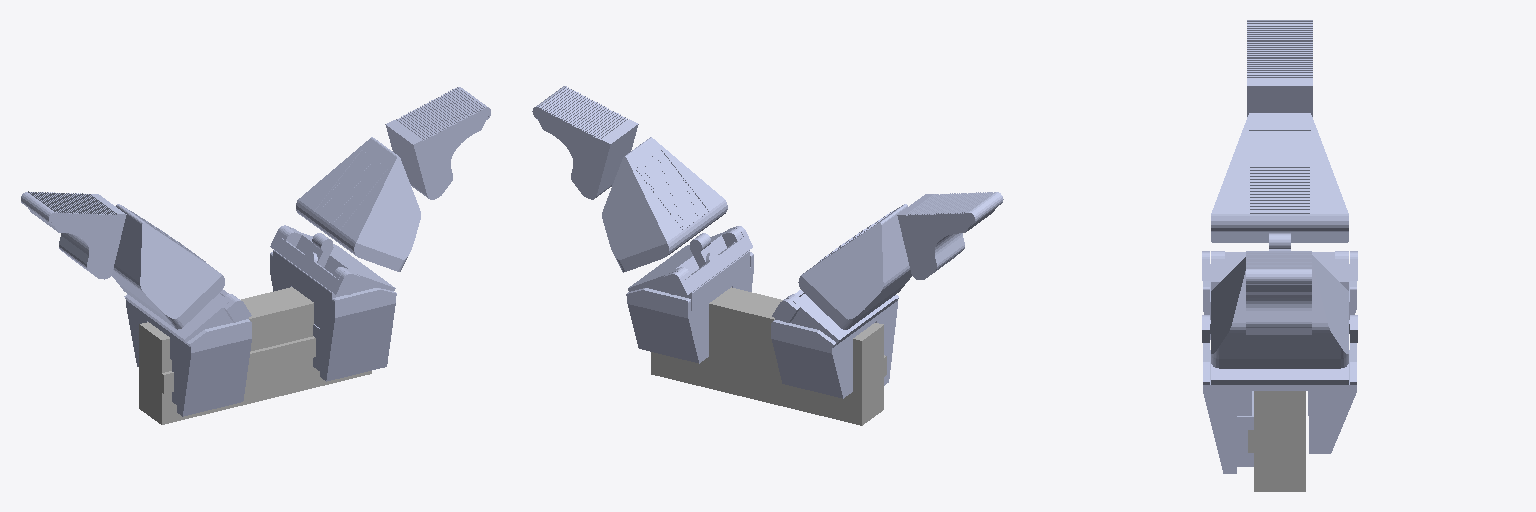
robot.urdf — dexco:
<?xml version="1.0" encoding="utf-8"?>
<!-- This URDF was automatically created by SolidWorks to URDF Exporter! Originally created by [author] ([email redacted]) 
     Commit Version: 1.6.0-4-g7f85cfe  Build Version: 1.6.7995.38578
     For more information, please see http://wiki.ros.org/sw_urdf_exporter -->
<robot
  name="dexco">

  <!-- Used for fixing robot to Gazebo 'hand_base_link' -->
  <!-- <link name="world"/>

  <joint name="fixed" type="fixed">
    <parent link="world"/>
    <child link="hand_base_link"/>
  </joint> -->
  <!-- Fixed joint to attach hand_base_link to the world -->
  <link name="hand_base_link"/>
  <!-- <joint name="world_joint" type="fixed">
    <parent link="ground_plane"/>
    <child link="hand_base_link"/>
    <origin xyz="0 0 0" rpy="0 0 0"/>
  </joint> -->
  <joint name="base" type="fixed">
    <origin xyz="0 0 0" rpy="0 0 0"/>
    <parent link="hand_base_link"/>
    <child link="palm"/>
  </joint>
  <link name="palm">
    <visual>
      <origin
        xyz="0 0 0"
        rpy="0 0 0" />
      <geometry>
        <mesh
          filename="package://dexco/meshes/Vbase_link.STL" />
      </geometry>
      <material
        name="">
        <color
          rgba="0.75294 0.75294 0.75294 1" />
      </material>
    </visual>
    <collision>
      <origin
        xyz="0 0 0"
        rpy="0 0 0" />
      <geometry>
        <mesh
          filename="package://dexco/meshes/base_link.STL" />
      </geometry>
    </collision>
    <inertial>
      <origin
        xyz="0.00071947 0.016915 0.01936"
        rpy="0 0 0" />
      <mass value="5"/> <!-- Reduced mass -->
      <inertia ixx="0.4" ixy="0.0" ixz="0.0" iyy="0.4" iyz="0.0" izz="0.4"/> <!-- Approximate values -->

    </inertial>
    <gazebo>
      <mu1>0</mu1> <!-- Increased dynamic friction coefficient -->
      <mu2>0.4</mu2> <!-- Increased static friction coefficient -->
    </gazebo>

  </link>
  <link name="LL0">
    <inertial>
      <origin
        xyz="-0.015482 -0.0012876 -0.011827"
        rpy="0 0 0" />
      <mass value="0.03"/> <!-- Reduced mass -->
      <inertia ixx="0.001" ixy="0.0" ixz="0.0" iyy="0.001" iyz="0.0" izz="0.001"/> <!-- Approximate values -->
    </inertial>
    <visual>
      <origin
        xyz="0 0 0"
        rpy="0 0 0" />
      <geometry>
        <mesh
          filename="package://dexco/meshes/VLL0.STL" />
      </geometry>
      <material
        name="">
        <color
          rgba="0.79216 0.81961 0.93333 0.85" />
      </material>
    </visual>
    <collision>
      <origin
        xyz="0 0 0"
        rpy="0 0 0" />
      <geometry>
        <mesh
          filename="package://dexco/meshes/LL0.STL" />
      </geometry>
    </collision>
    <gazebo>
      <mu1>0</mu1> <!-- Increased dynamic friction coefficient -->
      <mu2>0.4</mu2> <!-- Increased static friction coefficient -->
    </gazebo>

  </link>
  <joint name="LJ0"
    type="prismatic">
    <origin
      xyz="-0.029536 0.0133 0.06016"
      rpy="0 -0.5236 0" />
    <parent
      link="palm" />
    <child
      link="LL0" />
    <axis
      xyz="-0.86603 0 0.5" />
    <limit lower="-0.022" upper="0" effort="200" velocity="1"/> <!-- Adjusted limits and effort -->
    <dynamics damping="0.1" friction="0.5"/>
  </joint>
  <link  name="LL1">
    <inertial>
      <origin
        xyz="0.00036172 7.7716E-16 0.0047824"
        rpy="0 0 0" />
      <mass value="0.02"/>
      <inertia ixx="0.05" ixy="0.0" ixz="0.0" iyy="0.02" iyz="0.0" izz="0.05"/>

    </inertial>
    <visual>
      <origin
        xyz="0 0 0"
        rpy="0 0 0" />
      <geometry>
        <mesh
          filename="package://dexco/meshes/VLL1.STL" />
      </geometry>
      <material
        name="">
        <color
          rgba="0.79216 0.81961 0.93333 0.85" />
      </material>
    </visual>
    <collision>
      <origin
        xyz="0 0 0"
        rpy="0 0 0" />
      <geometry>
        <mesh
          filename="package://dexco/meshes/LL1.STL" />
      </geometry>
    </collision>
    <gazebo>
      <mu1>0</mu1>
      <mu2>0</mu2>
    </gazebo>

  </link>
  <joint  name="LJ1"
    type="revolute">
    <origin
      xyz="0 0 0"
      rpy="0 0 0" />
    <parent
      link="LL0" />
    <child
      link="LL1" />
    <axis
      xyz="-1 0 0" />
    <limit lower="-0.37" upper="0.37" effort="200" velocity="1"/> <!-- Adjusted limits and effort -->
    <dynamics damping="0" friction="0.4"/>
  </joint>
  <link  name="LL2">
    <inertial>
      <origin
        xyz="-1.7518E-05 0.0078276 0.020901"
        rpy="0 0 0" />
      <mass value="0.03"/> <!-- Reduced mass -->
      <inertia ixx="0.001" ixy="0.0" ixz="0.0" iyy="0.001" iyz="0.0" izz="0.001"/> <!-- Approximate values -->
    </inertial>
    <visual>
      <origin
        xyz="0 0 0"
        rpy="0 0 0" />
      <geometry>
        <mesh
          filename="package://dexco/meshes/VLL2.STL" />
      </geometry>
      <material
        name="">
        <color
          rgba="0.79216 0.81961 0.93333 0.85" />
      </material>
    </visual>
    <collision>
      <origin
        xyz="0 0 0"
        rpy="0 0 0" />
      <geometry>
        <mesh
          filename="package://dexco/meshes/LL2.STL" />
      </geometry>
    </collision>
    <gazebo>
      <mu1>0</mu1> <!-- Increased dynamic friction coefficient -->
      <mu2>0.4</mu2> <!-- Increased static friction coefficient -->
    </gazebo>

  </link>
  <joint  name="LJ2"
    type="revolute">
    <origin
      xyz="0.00135 0 0.0094651"
      rpy="-0.21509 0 1.5708" />
    <parent
      link="LL1" />
    <child
      link="LL2" />
    <axis
      xyz="-1 0 -0" />
    <limit lower="-1.57" upper="0" effort="200" velocity="1"/> <!-- Adjusted limits and effort -->
    <dynamics damping="0" friction="0.4"/>
  </joint>
  <link  name="LL3">
    <inertial>
      <origin
        xyz="-1.6118E-05 0.0075224 0.017154"
        rpy="0 0 0" />
      <mass value="0.03"/> <!-- Reduced mass -->
      <inertia ixx="0.001" ixy="0.0" ixz="0.0" iyy="0.001" iyz="0.0" izz="0.001"/> <!-- Approximate values -->
    </inertial>
    <visual>
      <origin
        xyz="0.0136 0 0"
        rpy="0 0 0" />
      <geometry>
        <mesh
          filename="package://dexco/meshes/VLL3.STL" />
      </geometry>
      <material
        name="">
        <color
          rgba="0.79216 0.81961 0.93333 0.85" />
      </material>
    </visual>
    <collision>
      <origin
        xyz="0 0 0"
        rpy="0 0 0" />
      <geometry>
        <mesh
          filename="package://dexco/meshes/LL3.STL" />
      </geometry>
    </collision>
    <gazebo>
      <mu1>0</mu1> <!-- Increased dynamic friction coefficient -->
      <mu2>0.4</mu2> <!-- Increased static friction coefficient -->
    </gazebo>

  </link>
  <joint  name="LJ3"
    type="revolute">
    <origin
      xyz="-0.00033506 0 0.052059"
      rpy="-0.57031 0 0" />
    <parent
      link="LL2" />
    <child
      link="LL3" />
    <axis
      xyz="-1 0 0" />
    <limit lower="-1.57" upper="0" effort="200" velocity="1"/> <!-- Adjusted limits and effort -->
    <dynamics damping="0" friction="0.4"/>
  </joint>
  <link  name="RL0">
    <inertial>
      <origin
        xyz="0.015482 -0.0012254 -0.011827"
        rpy="0 0 0" />
      <mass value="0.03"/> <!-- Reduced mass -->
      <inertia ixx="0.001" ixy="0.0" ixz="0.0" iyy="0.001" iyz="0.0" izz="0.001"/> <!-- Approximate values -->
    </inertial>
    <visual>
      <origin
        xyz="0 0 0"
        rpy="0 0 0" />
      <geometry>
        <mesh
          filename="package://dexco/meshes/VRL0.STL" />
      </geometry>
      <material
        name="">
        <color
          rgba="0.79216 0.81961 0.93333 0.85" />
      </material>
    </visual>
    <collision>
      <origin
        xyz="0 0 0"
        rpy="0 0 0" />
      <geometry>
        <mesh
          filename="package://dexco/meshes/RL0.STL" />
      </geometry>
    </collision>
    <gazebo>
      <mu1>0</mu1> <!-- Increased dynamic friction coefficient -->
      <mu2>0.4</mu2> <!-- Increased static friction coefficient -->
    </gazebo>

  </link>
  <joint  name="RJ0"
    type="prismatic">
    <origin
      xyz="0.029536 0.0133 0.06016"
      rpy="0 0.5236 0" />
    <parent
      link="palm" />
    <child
      link="RL0" />
    <axis
      xyz="-0.86603 0 -0.5" />
    <limit lower="0" upper="0.022" effort="200" velocity="1"/> <!-- Adjusted limits and effort -->
    <dynamics damping="0.1" friction="0.5"/>
    <mimic
      joint="LJ0"
      multiplier="-1.0" />
  </joint>
  <link  name="RL1">
    <inertial>
      <origin
        xyz="-0.00036172 -2.2204E-16 0.0047824"
        rpy="0 0 0" />
      <mass value="0.02"/>
      <inertia ixx="0.05" ixy="0.0" ixz="0.0" iyy="0.02" iyz="0.0" izz="0.05"/>
    </inertial>
    <visual>
      <origin
        xyz="0 0 0"
        rpy="0 0 0" />
      <geometry>
        <mesh
          filename="package://dexco/meshes/VRL1.STL" />
      </geometry>
      <material
        name="">
        <color
          rgba="0.79216 0.81961 0.93333 0.85" />
      </material>
    </visual>
    <collision>
      <origin
        xyz="0 0 0"
        rpy="0 0 0" />
      <geometry>
        <mesh
          filename="package://dexco/meshes/RL1.STL" />
      </geometry>
    </collision>
    <gazebo>
      <mu1>0</mu1>
      <mu2>0</mu2>
    </gazebo>

  </link>
  <joint  name="RJ1"
    type="revolute">
    <origin
      xyz="0 0 0"
      rpy="0 0 0" />
    <parent
      link="RL0" />
    <child
      link="RL1" />
    <axis
      xyz="1 0 0" />
    <limit lower="-0.37" upper="0.37" effort="200" velocity="1"/> <!-- Adjusted limits and effort -->
    <dynamics damping="0" friction="0.4"/>
  </joint>
  <link  name="RL2">
    <inertial>
      <origin
        xyz="1.7518E-05 -0.0078321 0.020868"
        rpy="0 0 0" />
      <mass value="0.03"/> <!-- Reduced mass -->
      <inertia ixx="0.001" ixy="0.0" ixz="0.0" iyy="0.001" iyz="0.0" izz="0.001"/> <!-- Approximate values -->
    </inertial>
    <visual>
      <origin
        xyz="0 0 0"
        rpy="0 0 0" />
      <geometry>
        <mesh
          filename="package://dexco/meshes/VRL2.STL" />
      </geometry>
      <material
        name="">
        <color
          rgba="0.79216 0.81961 0.93333 0.85" />
      </material>
    </visual>
    <collision>
      <origin
        xyz="0 0 0"
        rpy="0 0 0" />
      <geometry>
        <mesh
          filename="package://dexco/meshes/RL2.STL" />
      </geometry>
    </collision>
    <gazebo>
      <mu1>0</mu1> <!-- Increased dynamic friction coefficient -->
      <mu2>0.4</mu2> <!-- Increased static friction coefficient -->
    </gazebo>

  </link>
  <joint  name="RJ2"
    type="revolute">
    <origin
      xyz="-0.00135 0 0.0095"
      rpy="0.21523 0 1.5708" />
    <parent
      link="RL1" />
    <child
      link="RL2" />
    <axis
      xyz="1 0 0" />
    <limit lower="-1.57" upper="0" effort="200" velocity="1"/> <!-- Adjusted limits and effort -->
    <dynamics damping="0" friction="0.4"/>
  </joint>
  <link  name="RL3">
    <inertial>
      <origin
        xyz="1.6118E-05 -0.0075224 0.017154"
        rpy="0 0 0" />
      <mass value="0.03"/> <!-- Reduced mass -->
      <inertia ixx="0.001" ixy="0.0" ixz="0.0" iyy="0.001" iyz="0.0" izz="0.001"/> <!-- Approximate values -->
    </inertial>
    <visual>
      <origin
        xyz="-0.0136 0 0"
        rpy="0 0 0" />
      <geometry>
        <mesh
          filename="package://dexco/meshes/VRL3.STL" />
      </geometry>
      <material
        name="">
        <color
          rgba="0.79216 0.81961 0.93333 0.85" />
      </material>
    </visual>
    <collision>
      <origin
        xyz="0 0 0"
        rpy="0 0 0" />
      <geometry>
        <mesh
          filename="package://dexco/meshes/RL3.STL" />
      </geometry>
    </collision>
    <gazebo>
      <mu1>0</mu1> <!-- Increased dynamic friction coefficient -->
      <mu2>0.4</mu2> <!-- Increased static friction coefficient -->
    </gazebo>

  </link>
  <joint  name="RJ3"
    type="revolute">
    <origin
      xyz="0 0 0.052024"
      rpy="0.57017 0 0" />
    <parent
      link="RL2" />
    <child
      link="RL3" />
    <axis
      xyz="1 0 0" />
    <limit lower="-1.57" upper="0" effort="200" velocity="1"/> <!-- Adjusted limits and effort -->
    <dynamics damping="0" friction="0.4"/>
  </joint>

  <!-- ros_control plugin -->
  <!-- <gazebo>
    <plugin name="gazebo_ros_control" filename="libgazebo_ros_control.so">
      <robotNamespace>/dexco</robotNamespace>
      <robotSimType>gazebo_ros_control/DefaultRobotHWSim</robotSimType>
    </plugin>
  </gazebo> -->

<!-- Gazebo plugin for variable stiffness -->
  <gazebo>
    <plugin name="dexco_variable_stiffness_plugin" filename="libdexco_variable_stiffness_plugin.so">
      <robotNamespace>/dexco</robotNamespace>
      <jointName>LJ0</jointName>
    </plugin>
  </gazebo>
  <gazebo>
    <plugin name="dexco_variable_stiffness_plugin" filename="libdexco_variable_stiffness_plugin.so">
      <robotNamespace>/dexco</robotNamespace>
      <jointName>LJ1</jointName>
    </plugin>
  </gazebo>
  <gazebo>
    <plugin name="dexco_variable_stiffness_plugin" filename="libdexco_variable_stiffness_plugin.so">
      <robotNamespace>/dexco</robotNamespace>
      <jointName>LJ2</jointName>
    </plugin>
  </gazebo>
  <gazebo>
    <plugin name="dexco_variable_stiffness_plugin" filename="libdexco_variable_stiffness_plugin.so">
      <robotNamespace>/dexco</robotNamespace>
      <jointName>LJ3</jointName>
    </plugin>
  </gazebo>
  <gazebo>
    <plugin name="dexco_variable_stiffness_plugin" filename="libdexco_variable_stiffness_plugin.so">
      <robotNamespace>/dexco</robotNamespace>
      <jointName>RJ0</jointName>
    </plugin>
  </gazebo>
  <gazebo>
    <plugin name="dexco_variable_stiffness_plugin" filename="libdexco_variable_stiffness_plugin.so">
      <robotNamespace>/dexco</robotNamespace>
      <jointName>RJ1</jointName>
    </plugin>
  </gazebo>
  <gazebo>
    <plugin name="dexco_variable_stiffness_plugin" filename="libdexco_variable_stiffness_plugin.so">
      <robotNamespace>/dexco</robotNamespace>
      <jointName>RJ2</jointName>
    </plugin>
  </gazebo>
  <gazebo>
    <plugin name="dexco_variable_stiffness_plugin" filename="libdexco_variable_stiffness_plugin.so">
      <robotNamespace>/dexco</robotNamespace>
      <jointName>RJ3</jointName>
    </plugin>
  </gazebo>

  <transmission name="tran0">
    <type>transmission_interface/SimpleTransmission</type>
    <joint name="LJ0">
      <hardwareInterface>hardware_interface/EffortJointInterface</hardwareInterface>
    </joint>
    <actuator name="motorLJ0">
      <hardwareInterface>hardware_interface/EffortJointInterface</hardwareInterface>
      <mechanicalReduction>1</mechanicalReduction>
    </actuator>
  </transmission>

  <transmission name="tran1">
    <type>transmission_interface/SimpleTransmission</type>
    <joint name="LJ1">
      <hardwareInterface>hardware_interface/EffortJointInterface</hardwareInterface>
    </joint>
    <actuator name="motorLJ1">
      <hardwareInterface>hardware_interface/EffortJointInterface</hardwareInterface>
      <mechanicalReduction>1</mechanicalReduction>
    </actuator>
  </transmission>

  <transmission name="tran2">
    <type>transmission_interface/SimpleTransmission</type>
    <joint name="LJ2">
      <hardwareInterface>hardware_interface/EffortJointInterface</hardwareInterface>
    </joint>
    <actuator name="motorLJ2">
      <hardwareInterface>hardware_interface/EffortJointInterface</hardwareInterface>
      <mechanicalReduction>1</mechanicalReduction>
    </actuator>
  </transmission>

  <transmission name="tran3">
    <type>transmission_interface/SimpleTransmission</type>
    <joint name="LJ3">
      <hardwareInterface>hardware_interface/EffortJointInterface</hardwareInterface>
    </joint>
    <actuator name="motorLJ3">
      <hardwareInterface>hardware_interface/EffortJointInterface</hardwareInterface>
      <mechanicalReduction>1</mechanicalReduction>
    </actuator>
  </transmission>

  <transmission name="tran4">
    <type>transmission_interface/SimpleTransmission</type>
    <joint name="RJ0">
      <hardwareInterface>hardware_interface/PositionJointInterface</hardwareInterface>
    </joint>
    <actuator name="motorRJ0">
      <hardwareInterface>hardware_interface/PositionJointInterface</hardwareInterface>
      <mechanicalReduction>1.0</mechanicalReduction>
    </actuator>
  </transmission>

  <transmission name="tran5">
    <type>transmission_interface/SimpleTransmission</type>
    <joint name="RJ1">
      <hardwareInterface>hardware_interface/EffortJointInterface</hardwareInterface>
    </joint>
    <actuator name="motorRJ1">
      <hardwareInterface>hardware_interface/EffortJointInterface</hardwareInterface>
      <mechanicalReduction>1</mechanicalReduction>
    </actuator>
  </transmission>

  <transmission name="tran6">
    <type>transmission_interface/SimpleTransmission</type>
    <joint name="RJ2">
      <hardwareInterface>hardware_interface/EffortJointInterface</hardwareInterface>
    </joint>
    <actuator name="motorRJ2">
      <hardwareInterface>hardware_interface/EffortJointInterface</hardwareInterface>
      <mechanicalReduction>1</mechanicalReduction>
    </actuator>
  </transmission>

  <transmission name="tran7">
    <type>transmission_interface/SimpleTransmission</type>
    <joint name="RJ3">
      <hardwareInterface>hardware_interface/EffortJointInterface</hardwareInterface>
    </joint>
    <actuator name="motorRJ3">
      <hardwareInterface>hardware_interface/EffortJointInterface</hardwareInterface>
      <mechanicalReduction>1</mechanicalReduction>
    </actuator>
  </transmission>

</robot>

--- Facts derived from the render (not from the file) ---
3 views of the same robot in one strip: view 1: azimuth 30°, elevation 25°; view 2: azimuth 150°, elevation 25°; view 3: azimuth 270°, elevation 25° (orthographic).
Robot: dexco — 10 links, 9 joints (6 revolute, 2 prismatic, 1 fixed); root link hand_base_link; default pose: every joint at zero.
Links seen in each view (by area): view 1: RL0, palm, RL2, LL0, LL2, RL3, LL3; view 2: palm, RL2, RL0, LL0, LL2, RL3, LL3; view 3: LL2, RL0, RL2, LL3, RL3, palm, LL0.
Boxes of the visible links, x1=… form: RL0: x1=270, y1=225, x2=396, y2=381; palm: x1=139, y1=287, x2=371, y2=424; RL2: x1=296, y1=137, x2=420, y2=271; LL0: x1=124, y1=289, x2=251, y2=416; LL2: x1=111, y1=204, x2=224, y2=329; RL3: x1=385, y1=87, x2=490, y2=199; LL3: x1=21, y1=191, x2=126, y2=279; palm: x1=651, y1=287, x2=886, y2=425; RL2: x1=602, y1=137, x2=727, y2=272; RL0: x1=626, y1=226, x2=753, y2=363; LL0: x1=771, y1=290, x2=898, y2=398; LL2: x1=798, y1=204, x2=911, y2=329; RL3: x1=532, y1=86, x2=638, y2=199; LL3: x1=897, y1=192, x2=1003, y2=279; LL2: x1=1211, y1=113, x2=1348, y2=242; RL0: x1=1202, y1=315, x2=1357, y2=473; RL2: x1=1211, y1=255, x2=1348, y2=368; LL3: x1=1247, y1=20, x2=1312, y2=116; RL3: x1=1246, y1=251, x2=1311, y2=334; palm: x1=1248, y1=391, x2=1305, y2=491; LL0: x1=1202, y1=251, x2=1357, y2=339.
Bounding box of the posed robot: 0.2186 × 0.0564 × 0.1142 m (x, y, z).
Meshes: 9 distinct files referenced, 9 mesh visuals loaded (9 binary STL).